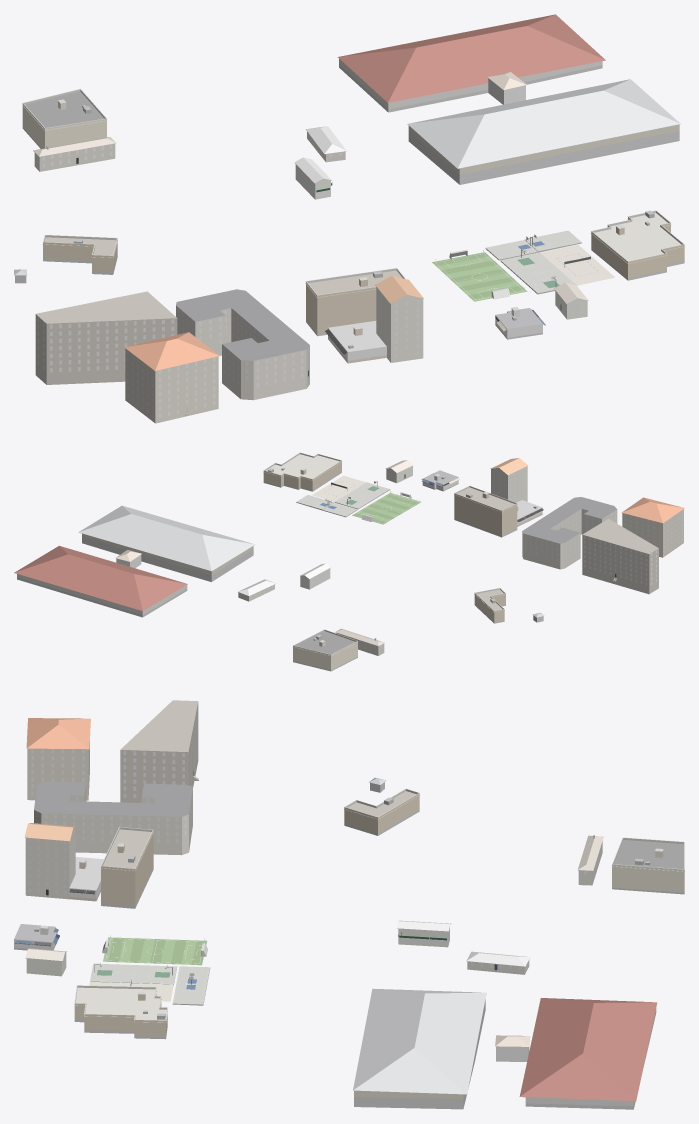
The model's file is bld_-1_1.dae.
3 renders of one model, top to bottom at view 1: azimuth 30°, elevation 25°; view 2: azimuth 150°, elevation 25°; view 3: azimuth 270°, elevation 25°, orthographic. The views are drawn at different scales.
Parts seen in each view (by area): view 1: blda2119; view 2: blda2119; view 3: blda2119.
Boxes of the visible parts, box(x1,y1,x2,y2) form: blda2119: box(14, 14, 684, 423); blda2119: box(14, 452, 684, 671); blda2119: box(14, 700, 684, 1109).
Bounding box in the file's own units: 322 × 257 × 31.17.
